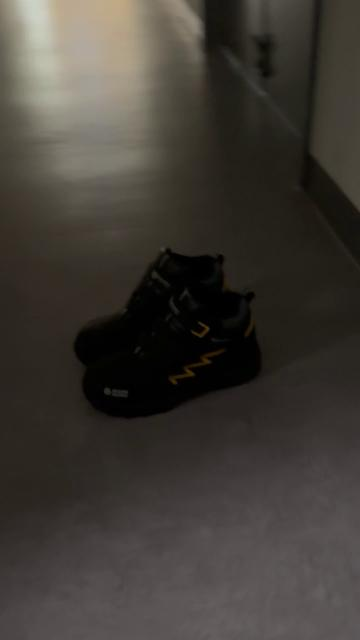shoe_worn: (83, 287, 258, 420), (72, 249, 231, 367)
